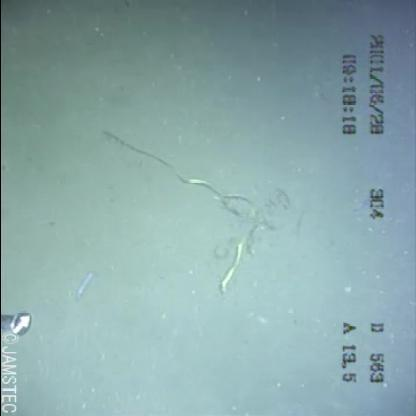Rov: (1, 311, 43, 337)
Rác: (72, 103, 332, 327)
